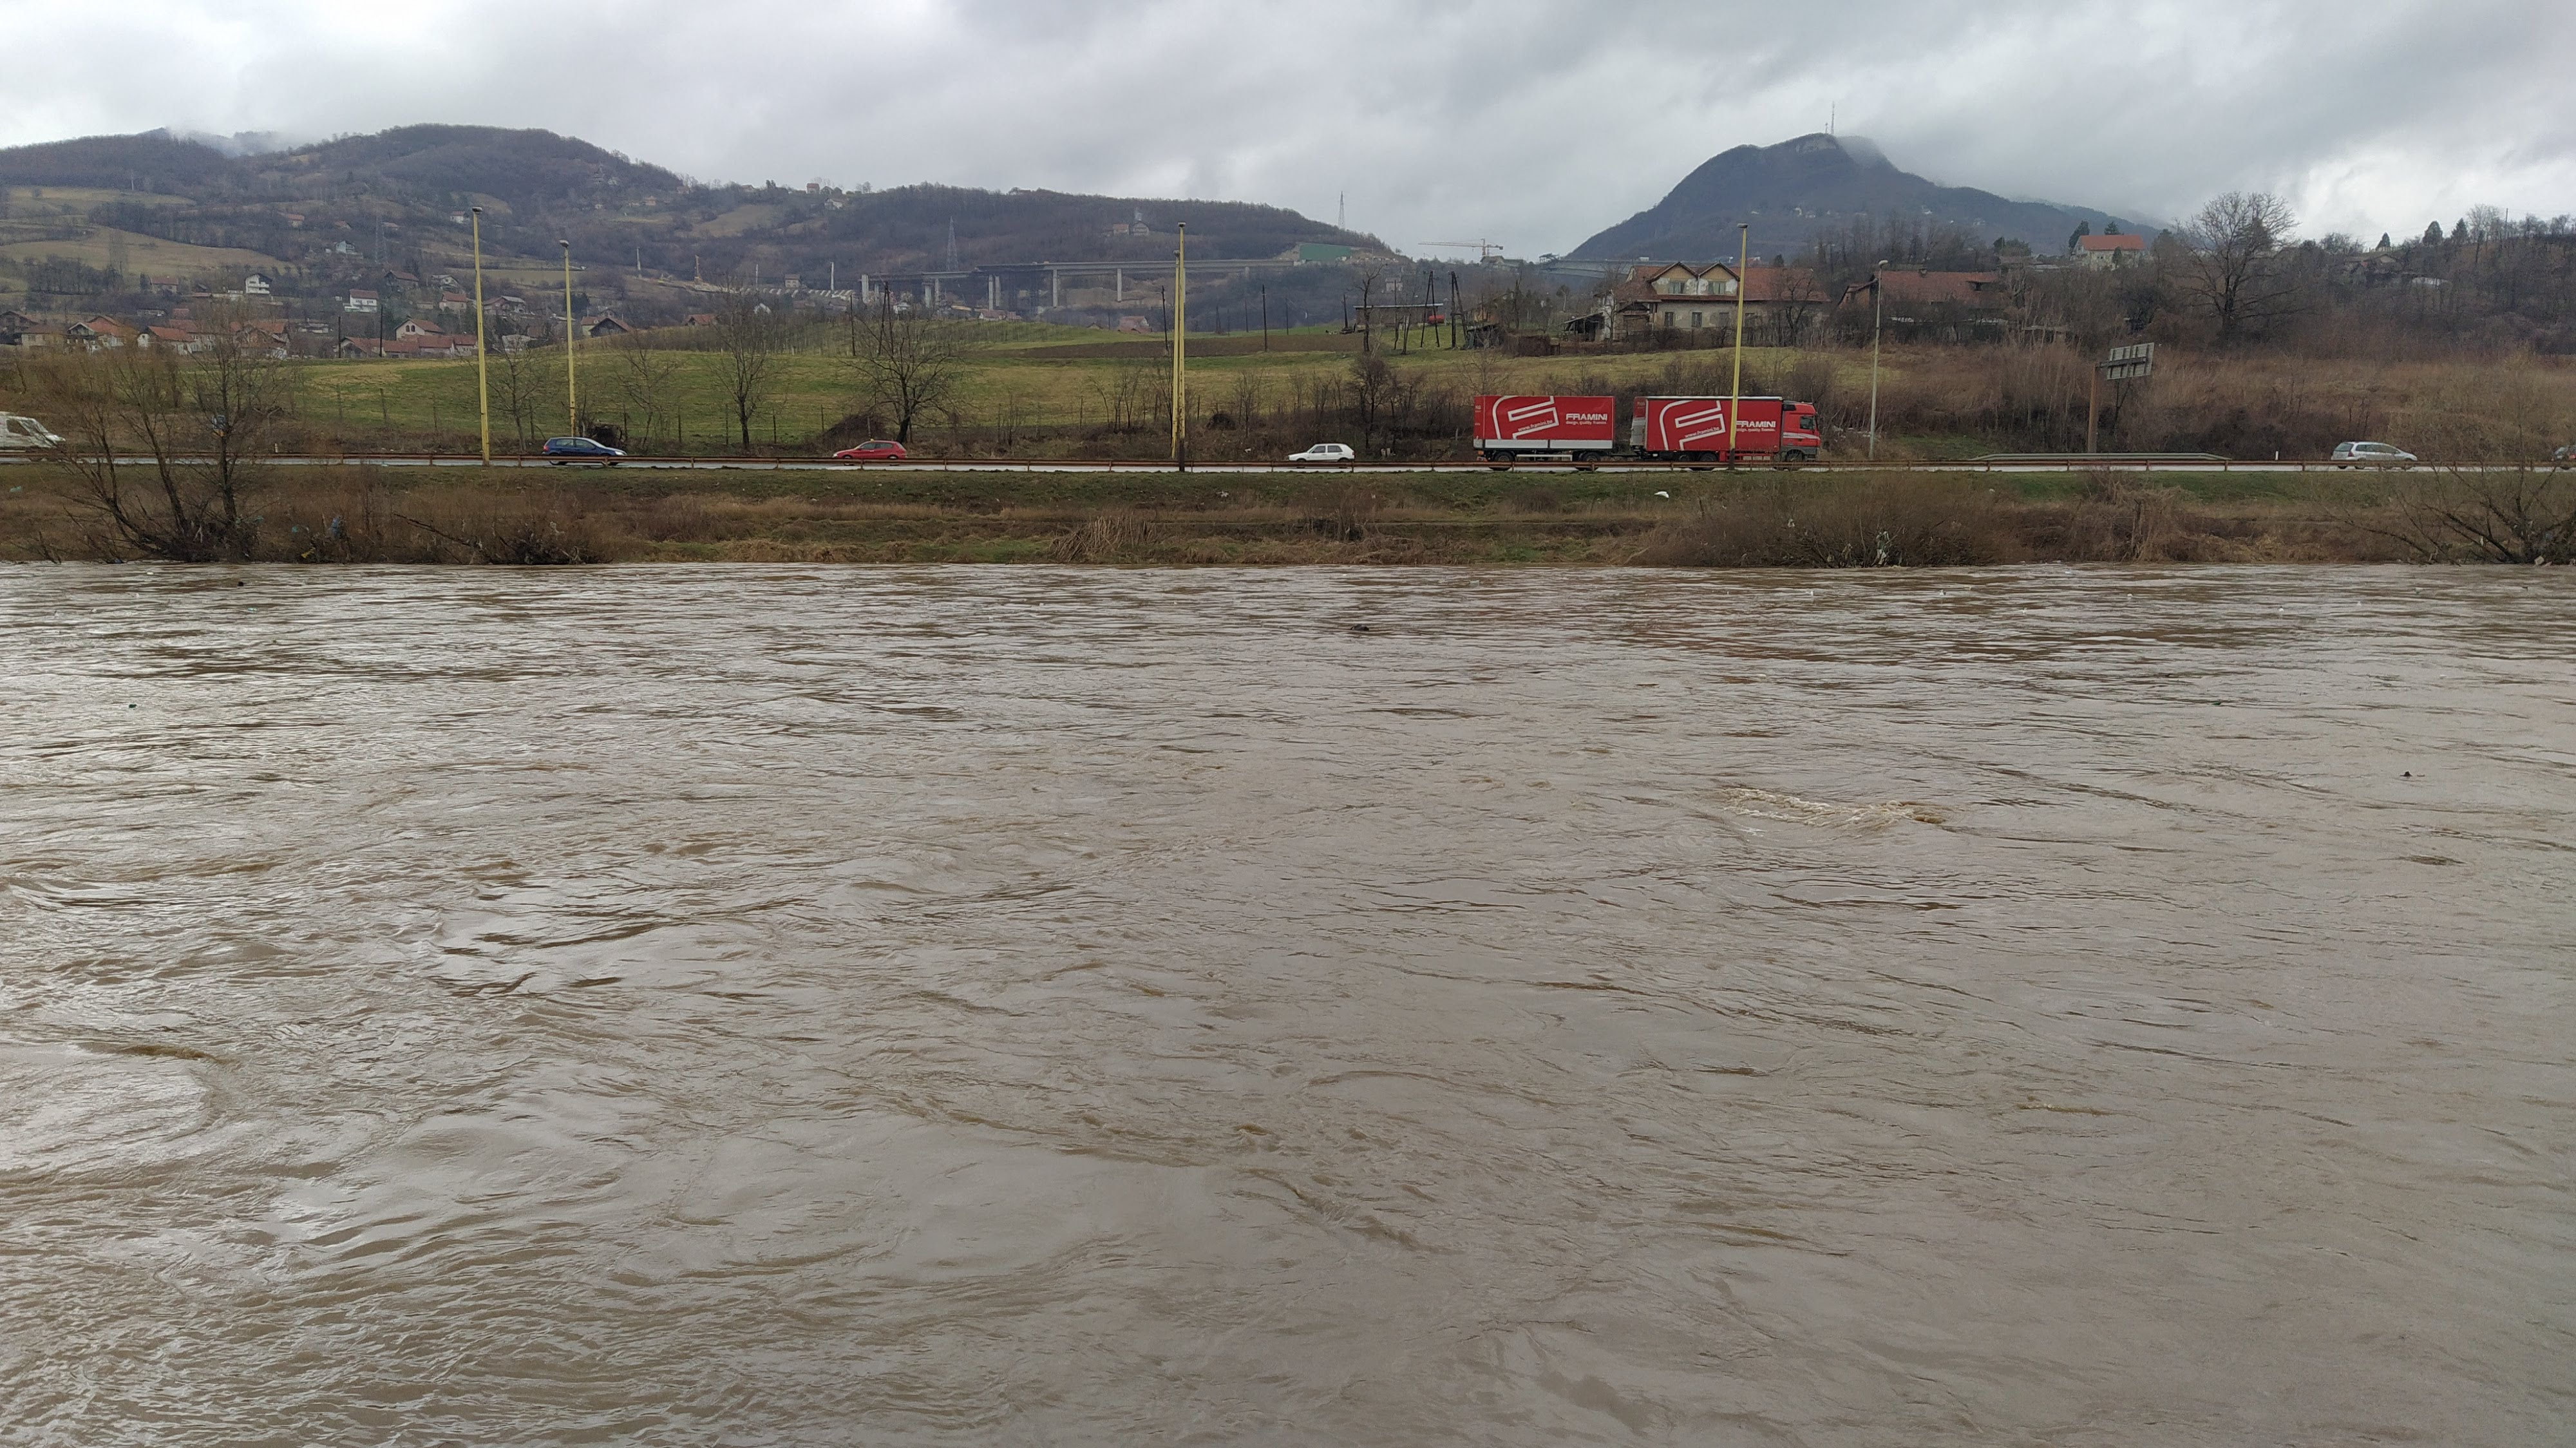Plastic Bottle: (129, 703, 138, 708), (2212, 701, 2220, 705), (147, 572, 152, 575), (249, 609, 257, 611)
